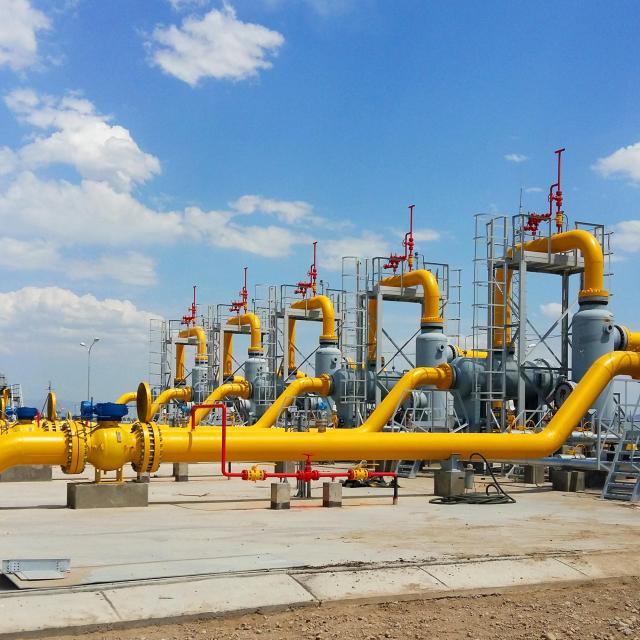gas: (11, 420, 553, 478), (477, 231, 610, 263), (361, 263, 437, 296), (270, 291, 333, 315), (214, 315, 263, 331), (163, 326, 205, 339)
